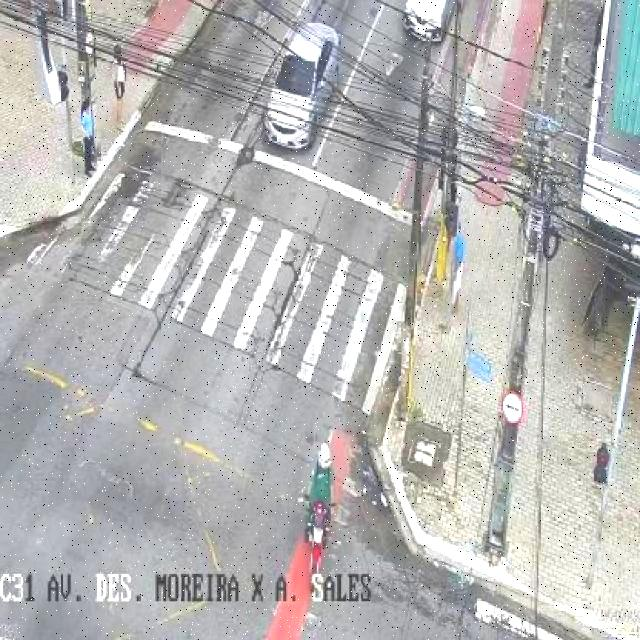Car: (257, 21, 344, 151), (402, 0, 456, 48)
Cycle: (298, 492, 337, 576)
